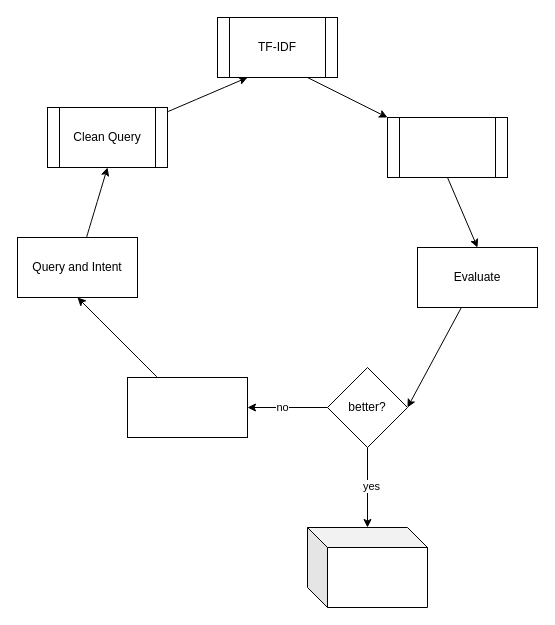
The diagram is 555 pixels wide and 625 high, and some of its shapes have lost their labels. The shapes that lost their labels are listed below. From the top down, each one's centre as x and y in pixels, then its label:
At point 447,147: "Logistic Regression".
At point 187,407: "Add more data".
At point 367,567: "User Intent Classification".
